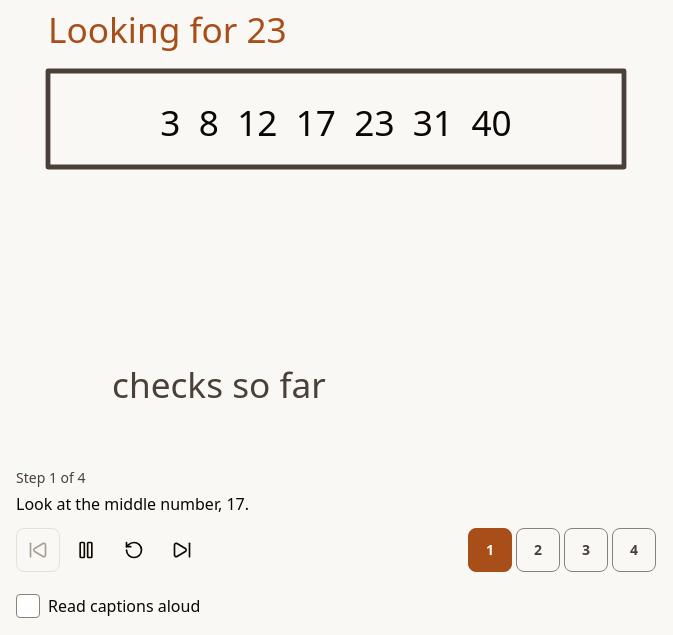
Test: narration is off by default and reads captions with a local voice (AN-18)
Click the checkbox labelled "Read captions aloud": {"x": 108, "y": 606} [16,594,200,618]
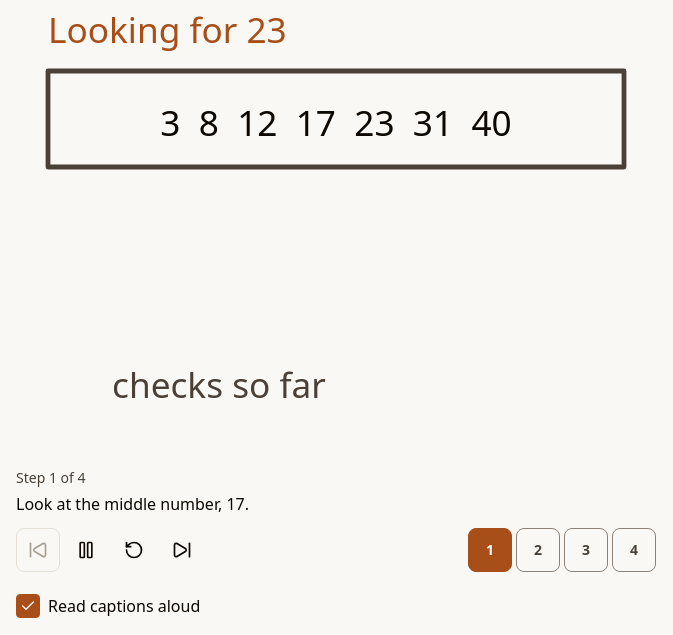
Click the button named "Next": {"x": 182, "y": 550} [160,528,204,572]
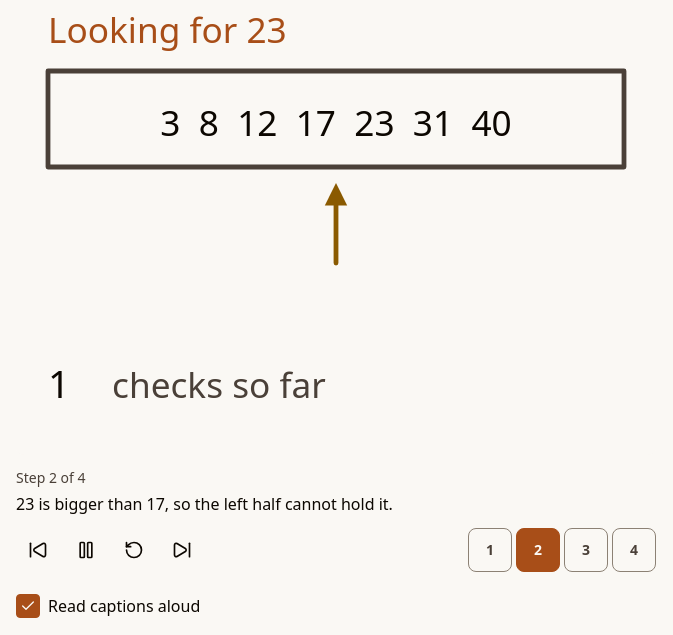
Now the text "23 is bigger than 17, so the left half cannot hold it." is shown, box [16,493,393,515]
Now the text with class "an-caption-text" reads "23 is bigger than 17, so the left half cannot hold it.", box [16,493,393,515]
